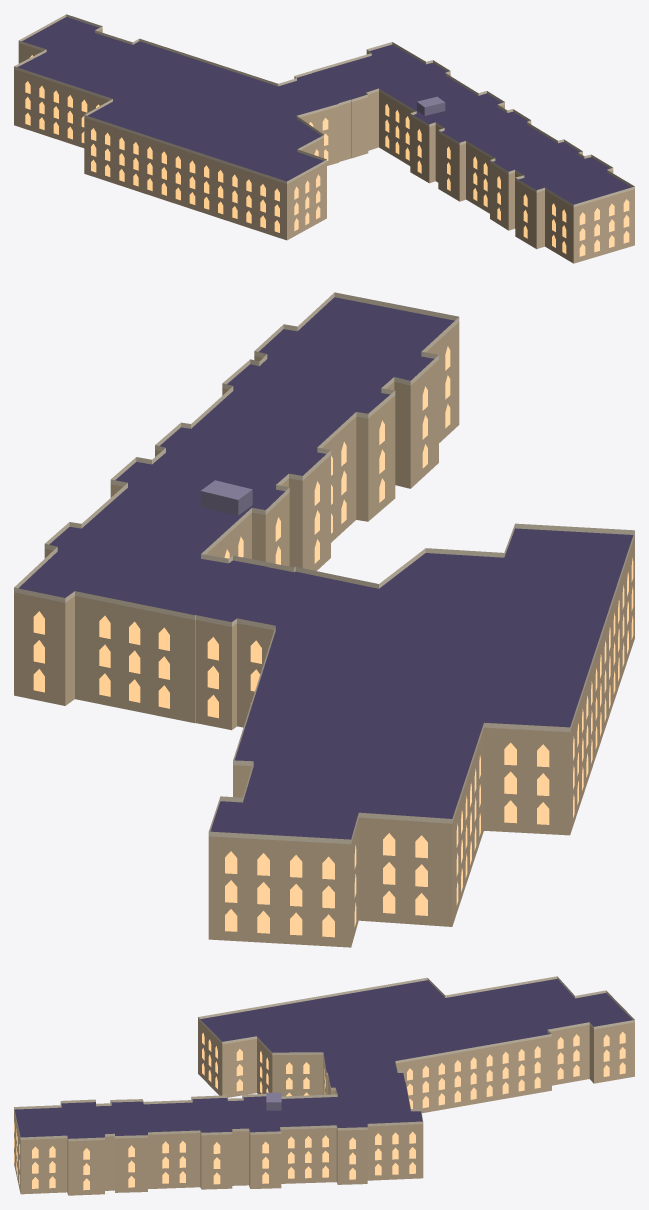
3 views of the same model, one above another, from view 1: azimuth 30°, elevation 25°; view 2: azimuth 150°, elevation 25°; view 3: azimuth 270°, elevation 25° (orthographic). The views are drawn at different scales.
Parts seen in each view (by area): view 1: campus/b-133-0; view 2: campus/b-133-0; view 3: campus/b-133-0.
Boxes of the visible parts, box(x1,y1,x2,y2) form: campus/b-133-0: box(14, 14, 634, 263); campus/b-133-0: box(14, 292, 634, 947); campus/b-133-0: box(14, 976, 634, 1195).
Size of the model in its own units: 75.78 by 13.6 by 122.
